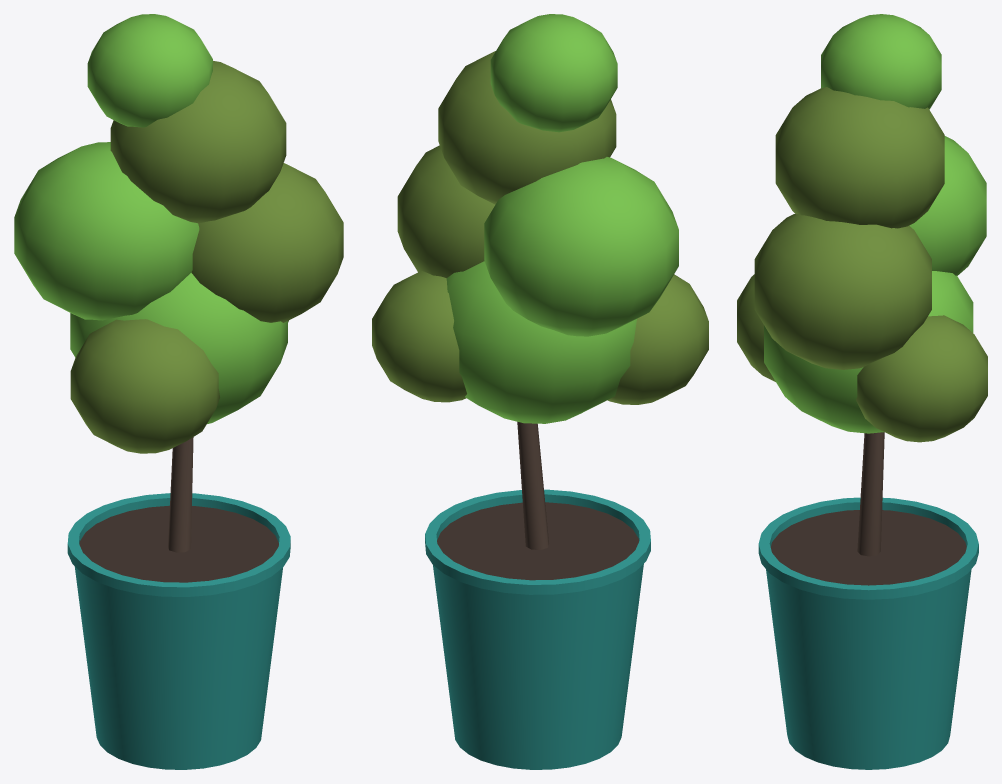
Rendered from SM_PlantTall.glb.
The picture shows the model from 3 angles, left to right: view 1: azimuth 30°, elevation 25°; view 2: azimuth 150°, elevation 25°; view 3: azimuth 270°, elevation 25°; orthographic projection. The views are drawn at different scales.
Parts seen in each view (by area): view 1: SM_PlantTall; view 2: SM_PlantTall; view 3: SM_PlantTall.
Boxes of the visible parts, left/top/right/bottom form: SM_PlantTall: left=14, top=14, right=343, bottom=769; SM_PlantTall: left=372, top=14, right=708, bottom=769; SM_PlantTall: left=737, top=14, right=987, bottom=769.
Bounding box in the file's own units: 0.7487 × 1.84 × 0.5927.
Materials: 1 (1 with a texture image).
